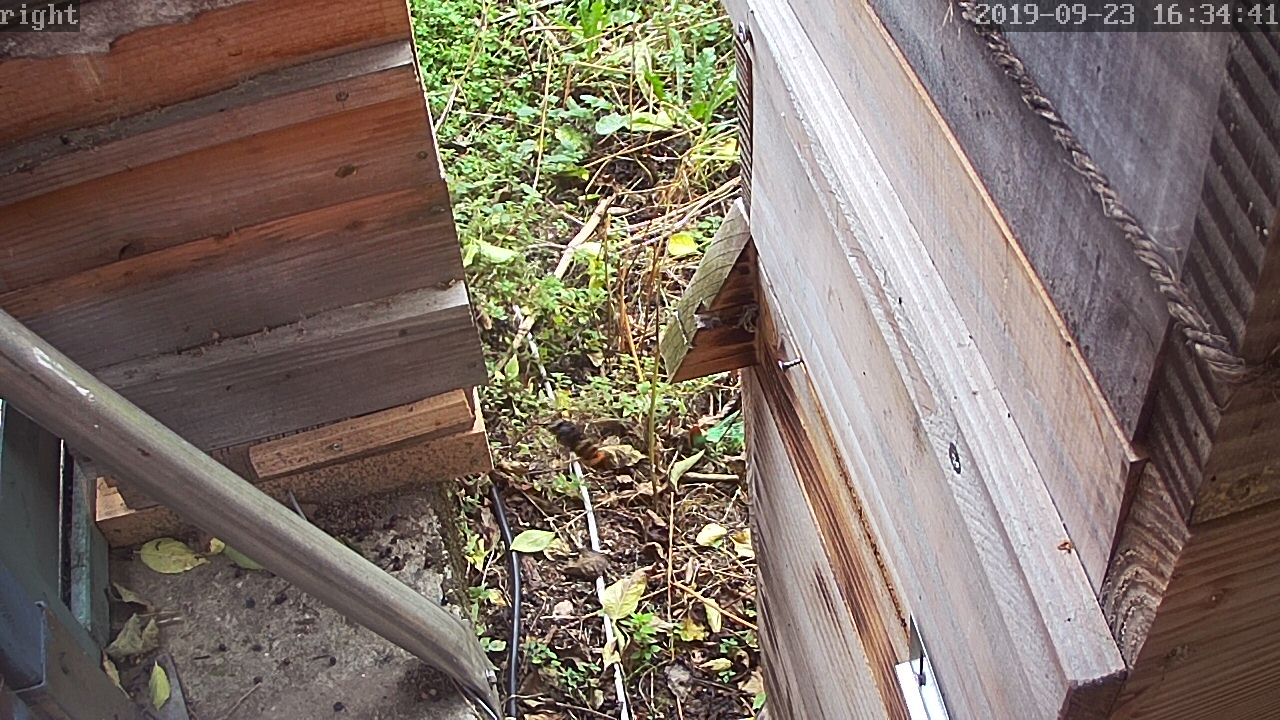hornet: (548, 417, 620, 474)
